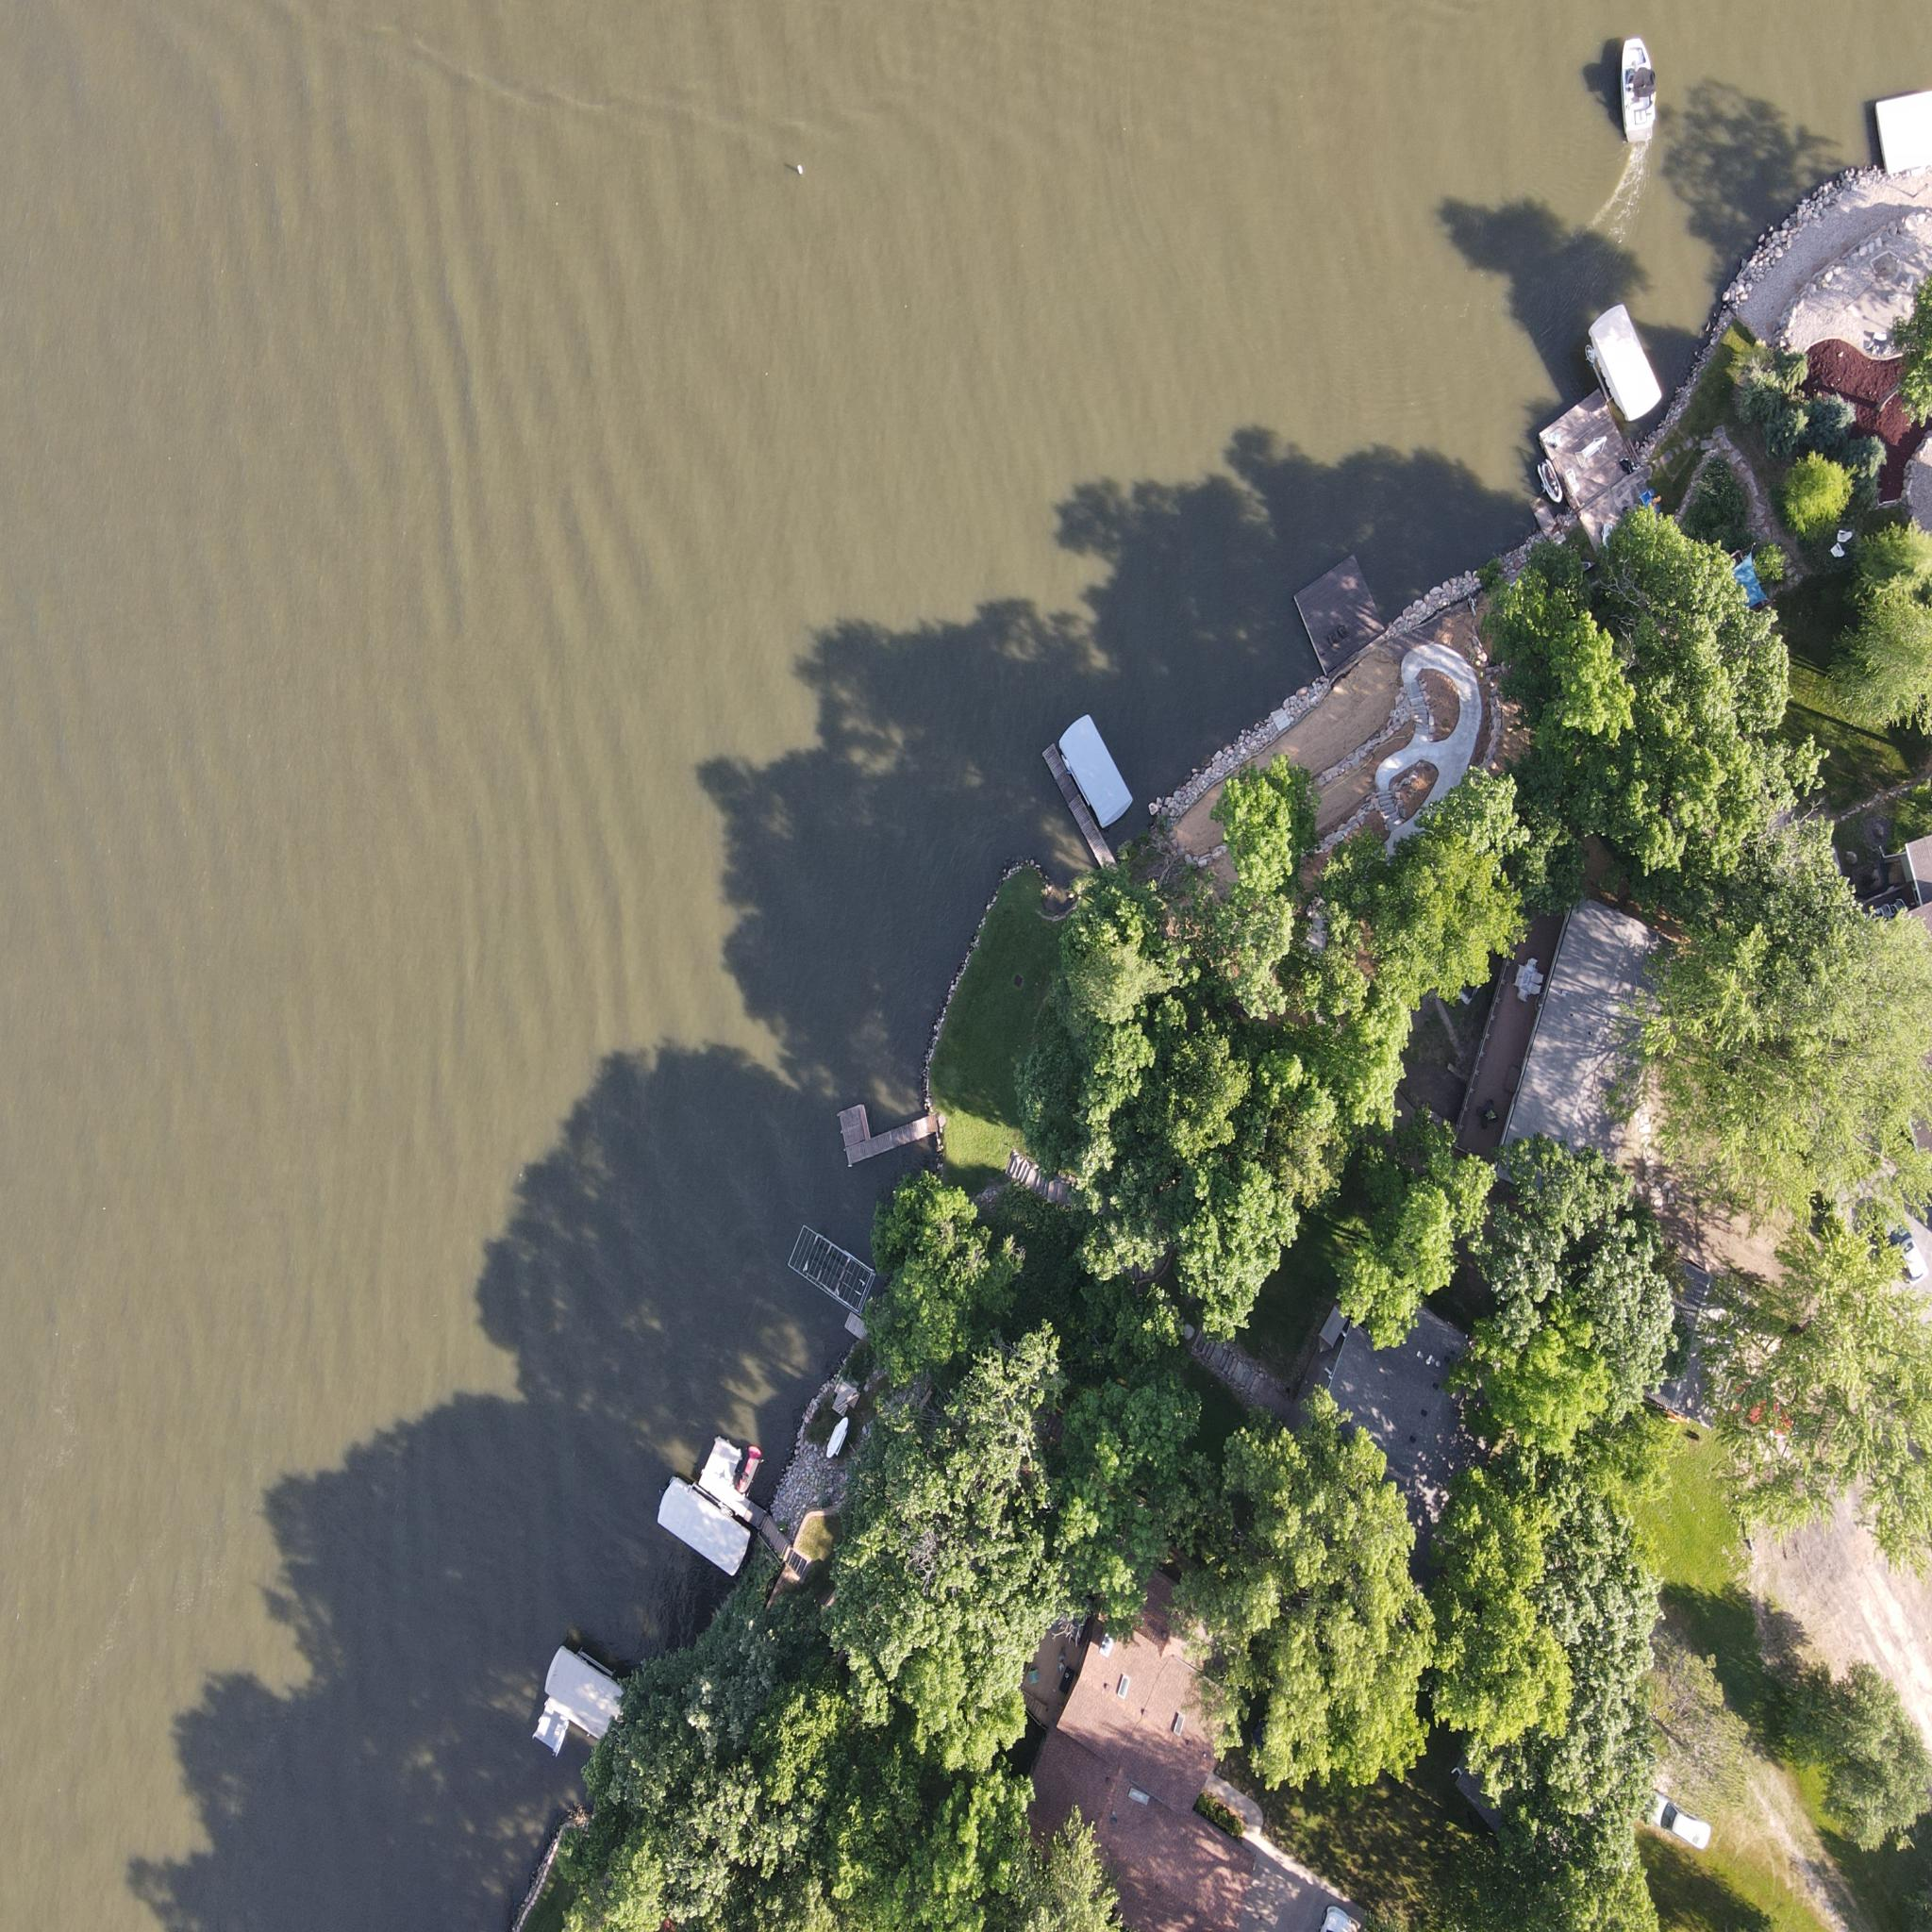boat: (1615, 32, 1663, 154)
car: (1638, 1783, 1718, 1858), (1881, 1205, 1928, 1295)
dock: (1283, 540, 1392, 683), (1028, 750, 1129, 872), (1530, 387, 1640, 495), (679, 1421, 759, 1527), (833, 1102, 938, 1171)
jetski: (1529, 462, 1575, 508), (729, 1445, 766, 1490)
lift: (1571, 297, 1668, 423), (766, 1217, 883, 1318), (531, 1624, 628, 1739), (644, 1484, 759, 1578), (1051, 709, 1138, 828)
